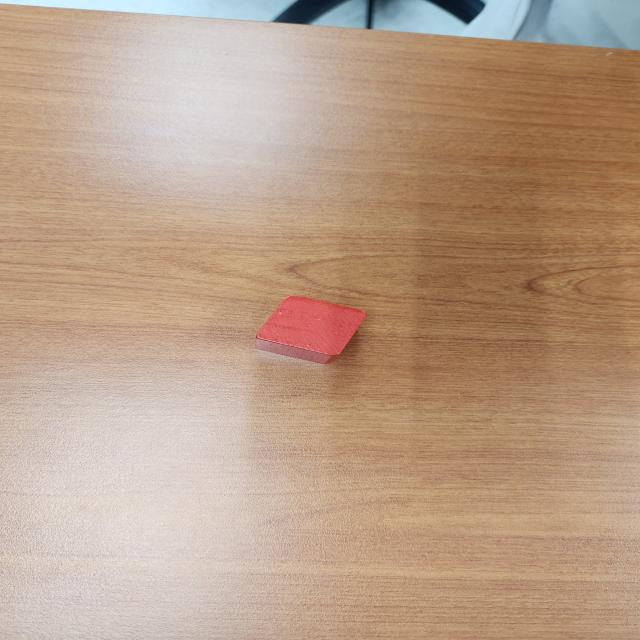red: (252, 297, 367, 364)
